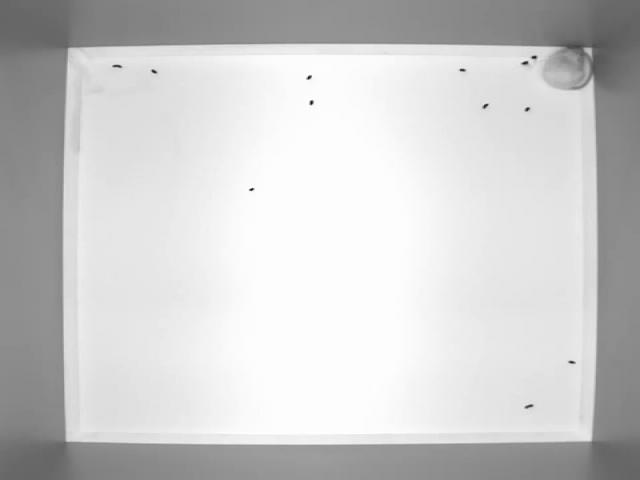Tikus: (536, 38, 600, 98)
